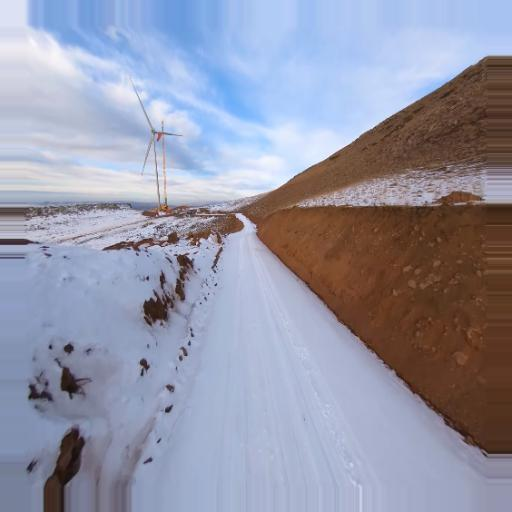wind turbine: (128, 82, 186, 217)
